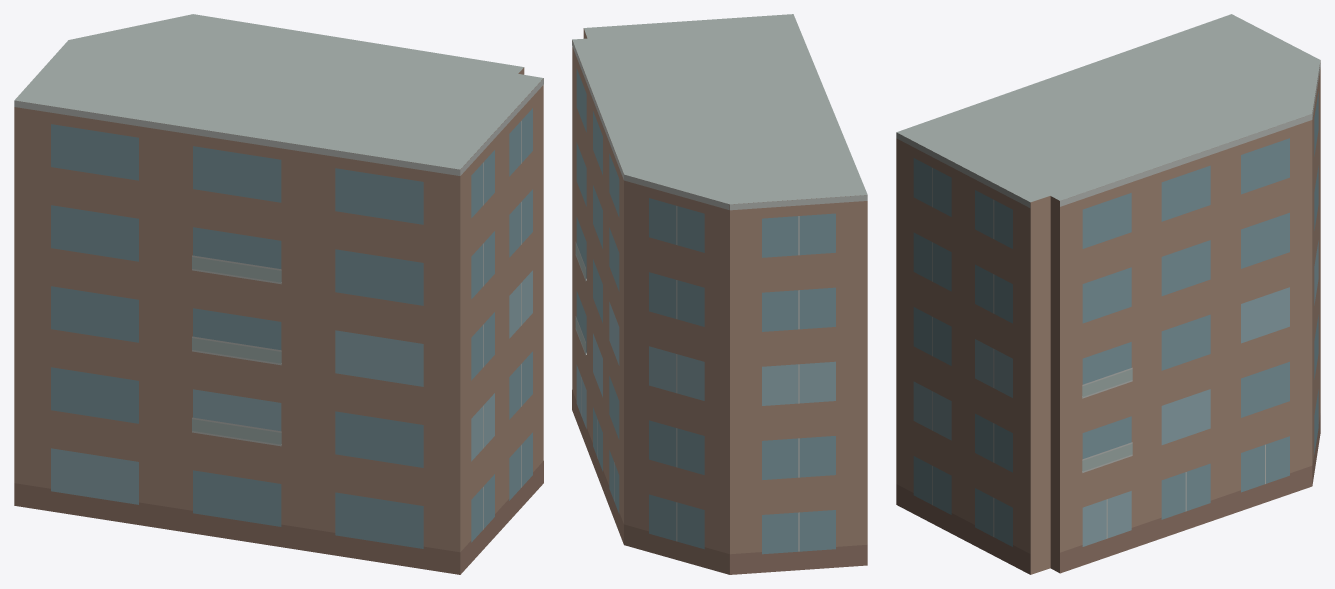
File: survey-upis-32951587.glb
The picture shows the model from 3 angles, left to right: view 1: azimuth 30°, elevation 25°; view 2: azimuth 150°, elevation 25°; view 3: azimuth 270°, elevation 25°; orthographic projection. The views are drawn at different scales.
Visible parts, largest first — view 1: survey-upis-32951587.tmp; view 2: survey-upis-32951587.tmp; view 3: survey-upis-32951587.tmp.
Part boxes in pixels (x1,y1,x2,y2): survey-upis-32951587.tmp: [14, 14, 543, 574]; survey-upis-32951587.tmp: [572, 14, 867, 574]; survey-upis-32951587.tmp: [896, 14, 1320, 574].
Bounding box in the file's own units: 16.44 × 15.15 × 15.64.
